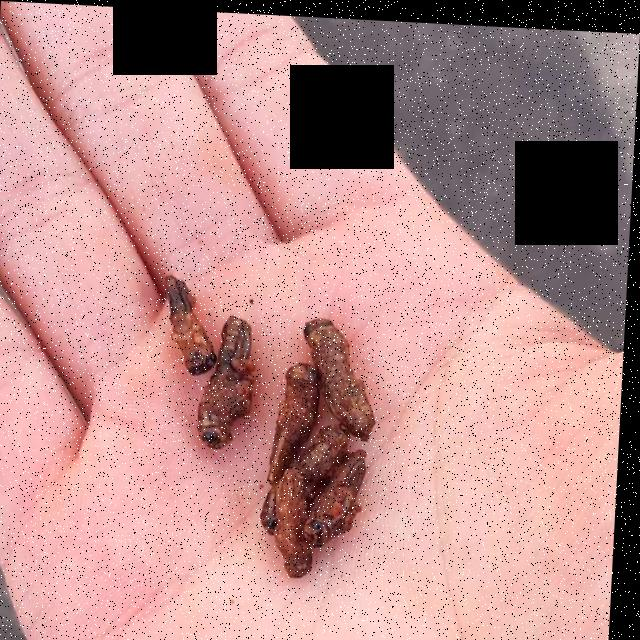dried-meat: (167, 277, 382, 574)
